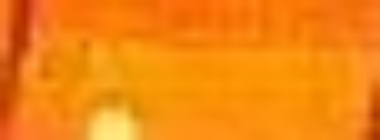Hotspot: (77, 96, 143, 140)
